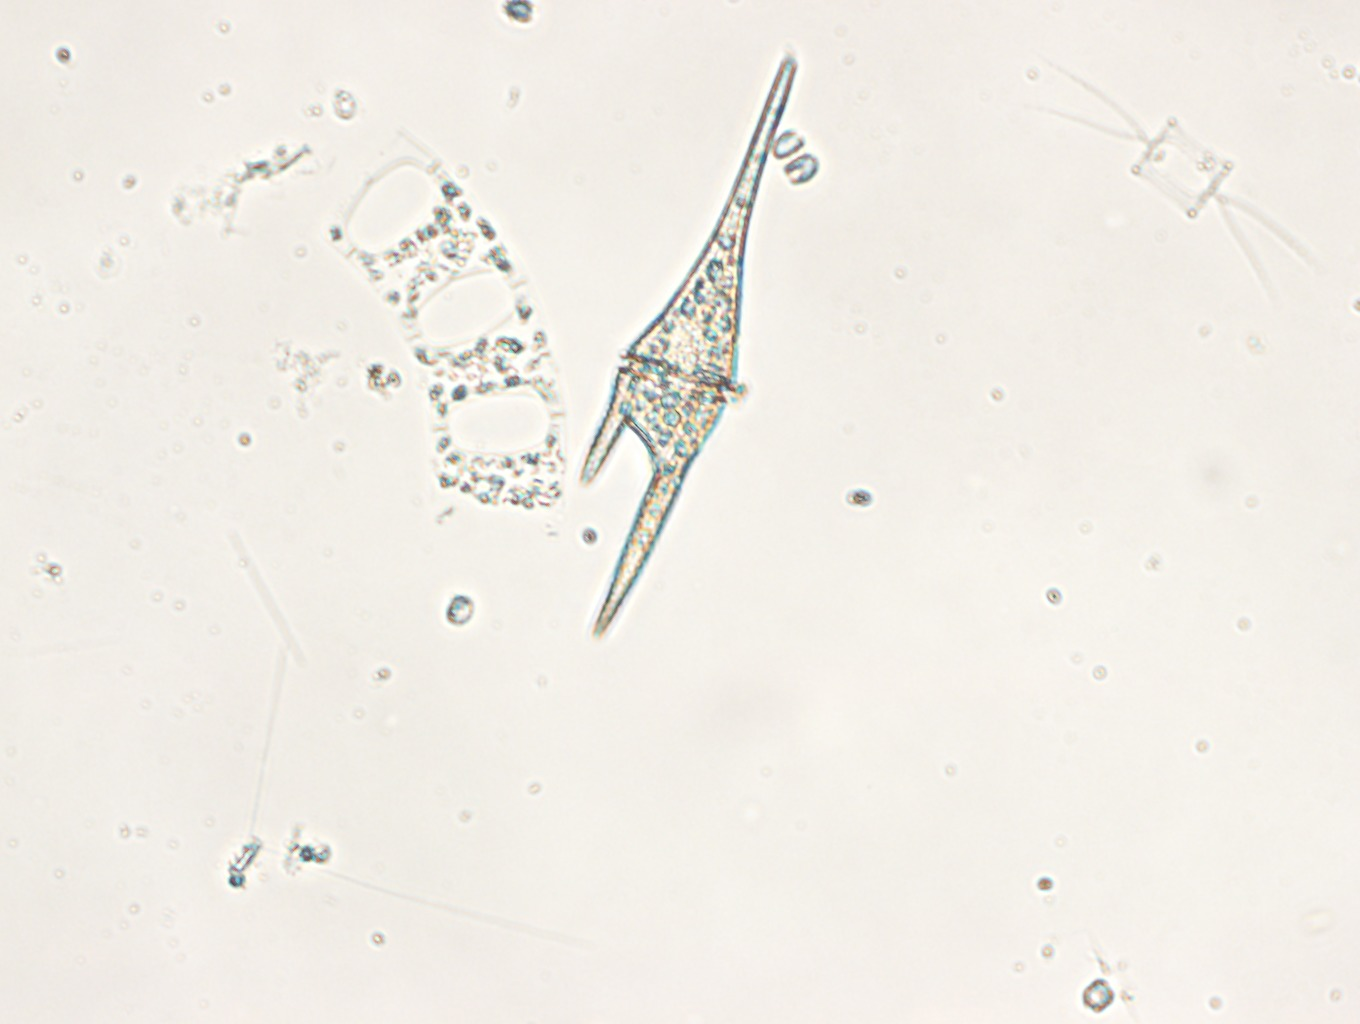ceratium furca: (581, 48, 797, 639)
chaetoceros: (1018, 52, 1309, 307)
eucampia: (333, 129, 569, 541)
